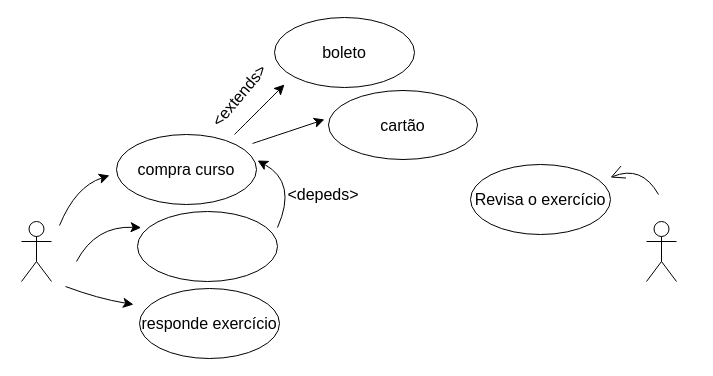
This 713x376 diagram has some shape labels left out. The shapes that lost their labels are listed below. From the top down, each one's box as (x1, y1, x2, y2) in pixels, then its label:
(20, 220, 52, 282): aluno
(136, 210, 278, 282): assistir vídeo
(646, 220, 676, 282): Professor
